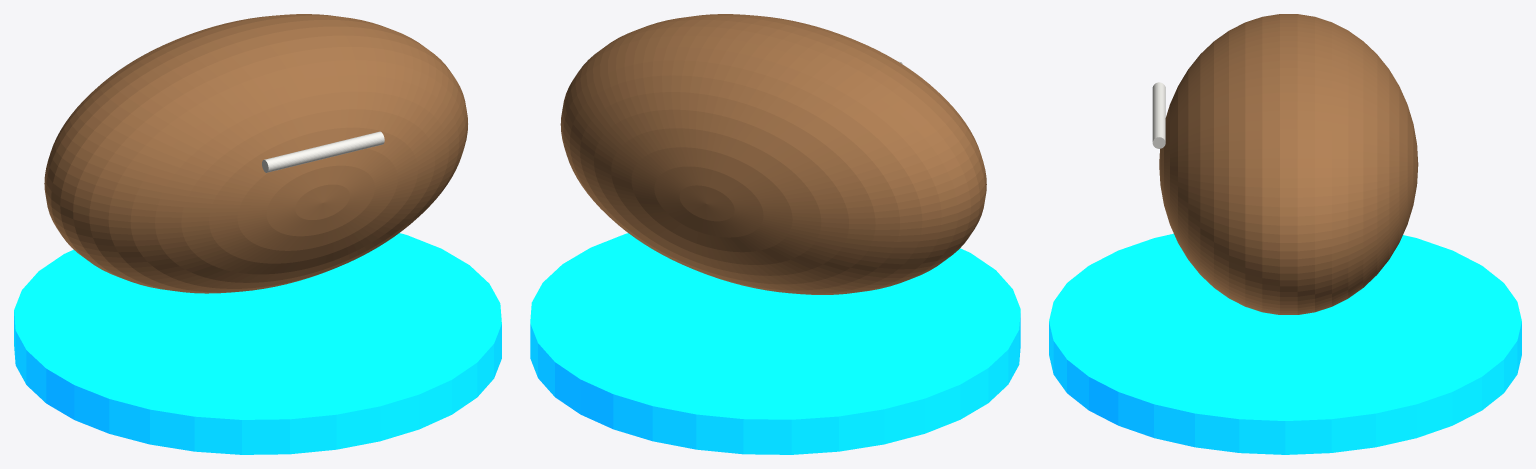
The model's file is sports_football.glb.
3 renders of one model, left to right at view 1: azimuth 30°, elevation 25°; view 2: azimuth 150°, elevation 25°; view 3: azimuth 270°, elevation 25°, orthographic. The views are drawn at different scales.
Parts seen in each view (by area): view 1: 04_03_Popular_Sports_Football_part_01, 04_03_Popular_Sports_Football_ROOT_base, 04_03_Popular_Sports_Football_part_02; view 2: 04_03_Popular_Sports_Football_part_01, 04_03_Popular_Sports_Football_ROOT_base; view 3: 04_03_Popular_Sports_Football_ROOT_base, 04_03_Popular_Sports_Football_part_01, 04_03_Popular_Sports_Football_part_02.
Part boxes in pixels (x1=…): 04_03_Popular_Sports_Football_part_01: x1=44, y1=14, x2=467, y2=293; 04_03_Popular_Sports_Football_ROOT_base: x1=14, y1=233, x2=501, y2=454; 04_03_Popular_Sports_Football_part_02: x1=262, y1=131, x2=384, y2=172; 04_03_Popular_Sports_Football_part_01: x1=560, y1=14, x2=986, y2=294; 04_03_Popular_Sports_Football_ROOT_base: x1=530, y1=233, x2=1020, y2=454; 04_03_Popular_Sports_Football_ROOT_base: x1=1049, y1=233, x2=1521, y2=454; 04_03_Popular_Sports_Football_part_01: x1=1159, y1=14, x2=1418, y2=314; 04_03_Popular_Sports_Football_part_02: x1=1152, y1=82, x2=1165, y2=148.
Bounding box in the file's own units: 0.76 × 0.5454 × 0.76.
